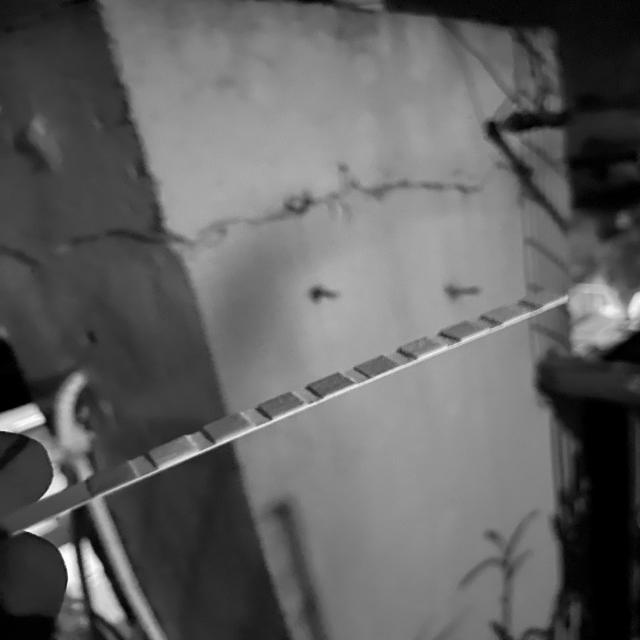Bilirubin: (164, 444, 192, 457)
Blood: (322, 380, 344, 390)
Glucose: (100, 470, 126, 483)
Ketone: (214, 421, 241, 433)
Leukocytes: (534, 293, 555, 302)
Nitrite: (494, 308, 520, 318)
Protein: (412, 340, 434, 352)
SpGravity: (270, 398, 297, 411)
Urobilinogen: (454, 325, 478, 335)
background: (0, 0, 640, 640)
pH: (369, 361, 391, 370)
strip: (3, 291, 568, 534)
